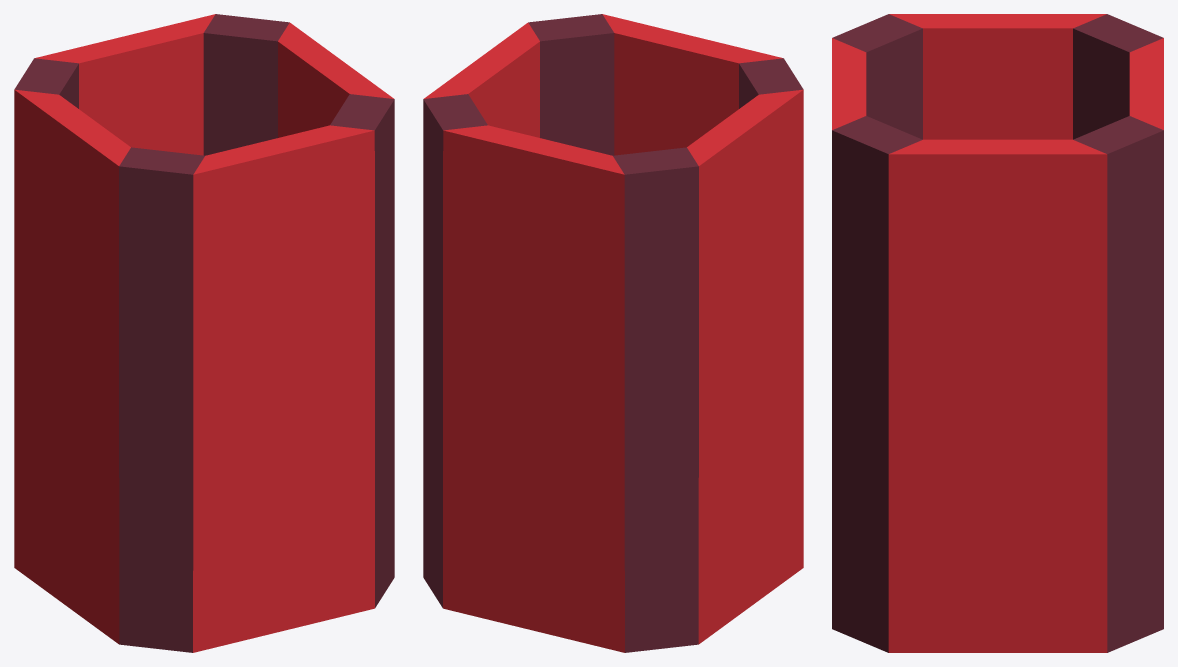
Rendered from PenHolder.fbx.
3 views of the same model, side by side, from view 1: azimuth 30°, elevation 25°; view 2: azimuth 150°, elevation 25°; view 3: azimuth 270°, elevation 25° (orthographic). The views are drawn at different scales.
Visible parts, largest first — view 1: PenHolder; view 2: PenHolder; view 3: PenHolder.
Boxes of the visible parts, x1,y1,x2,y2 form: PenHolder: [14, 14, 394, 652]; PenHolder: [423, 14, 803, 652]; PenHolder: [832, 14, 1163, 652].
Size of what is drawn, in the model's own units: 6.11 by 10.13 by 6.11.
